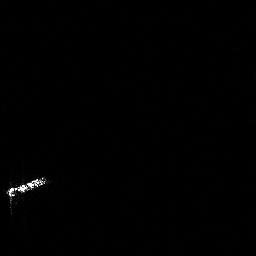ship: (7, 176, 46, 197)
